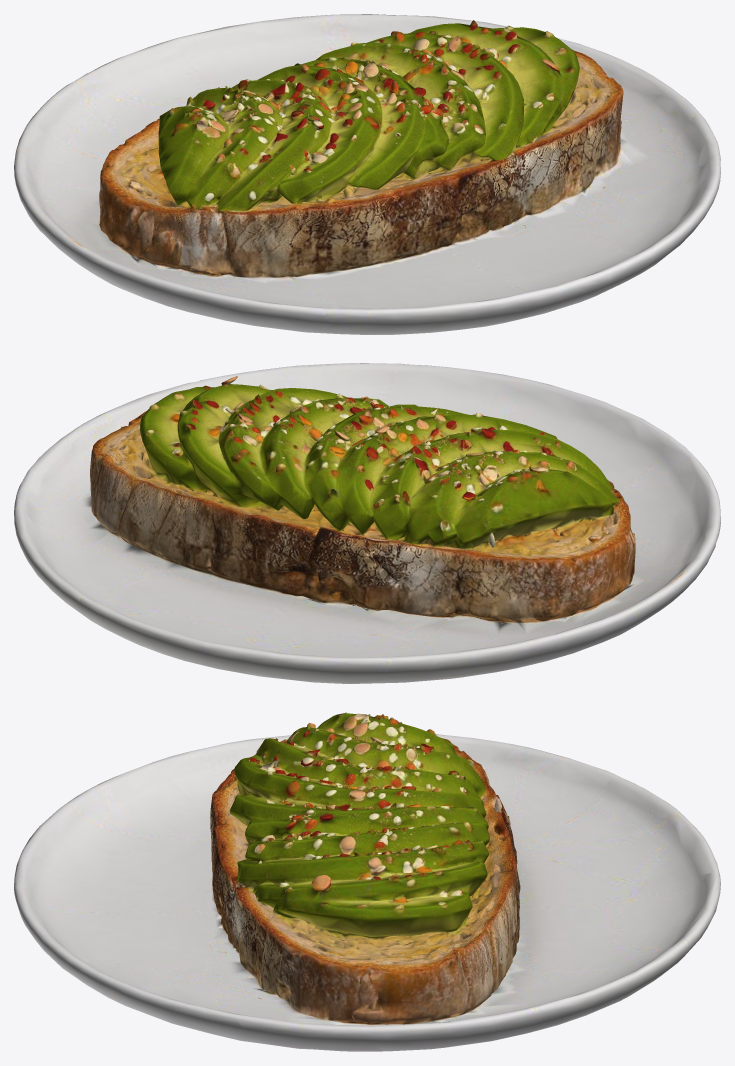
Rendered from avocado-toast.glb.
The picture shows the model from 3 angles, top to bottom: view 1: azimuth 30°, elevation 25°; view 2: azimuth 150°, elevation 25°; view 3: azimuth 270°, elevation 25°; orthographic projection.
Parts seen in each view (by area): view 1: mesh_node; view 2: mesh_node; view 3: mesh_node.
Part boxes in pixels (x1,y1,x2,y2): mesh_node: [14, 14, 720, 334]; mesh_node: [14, 363, 720, 683]; mesh_node: [14, 712, 720, 1051].
Bounding box in the file's own units: 1.9 × 0.4117 × 1.9.
Materials: 1 (1 with a texture image).
